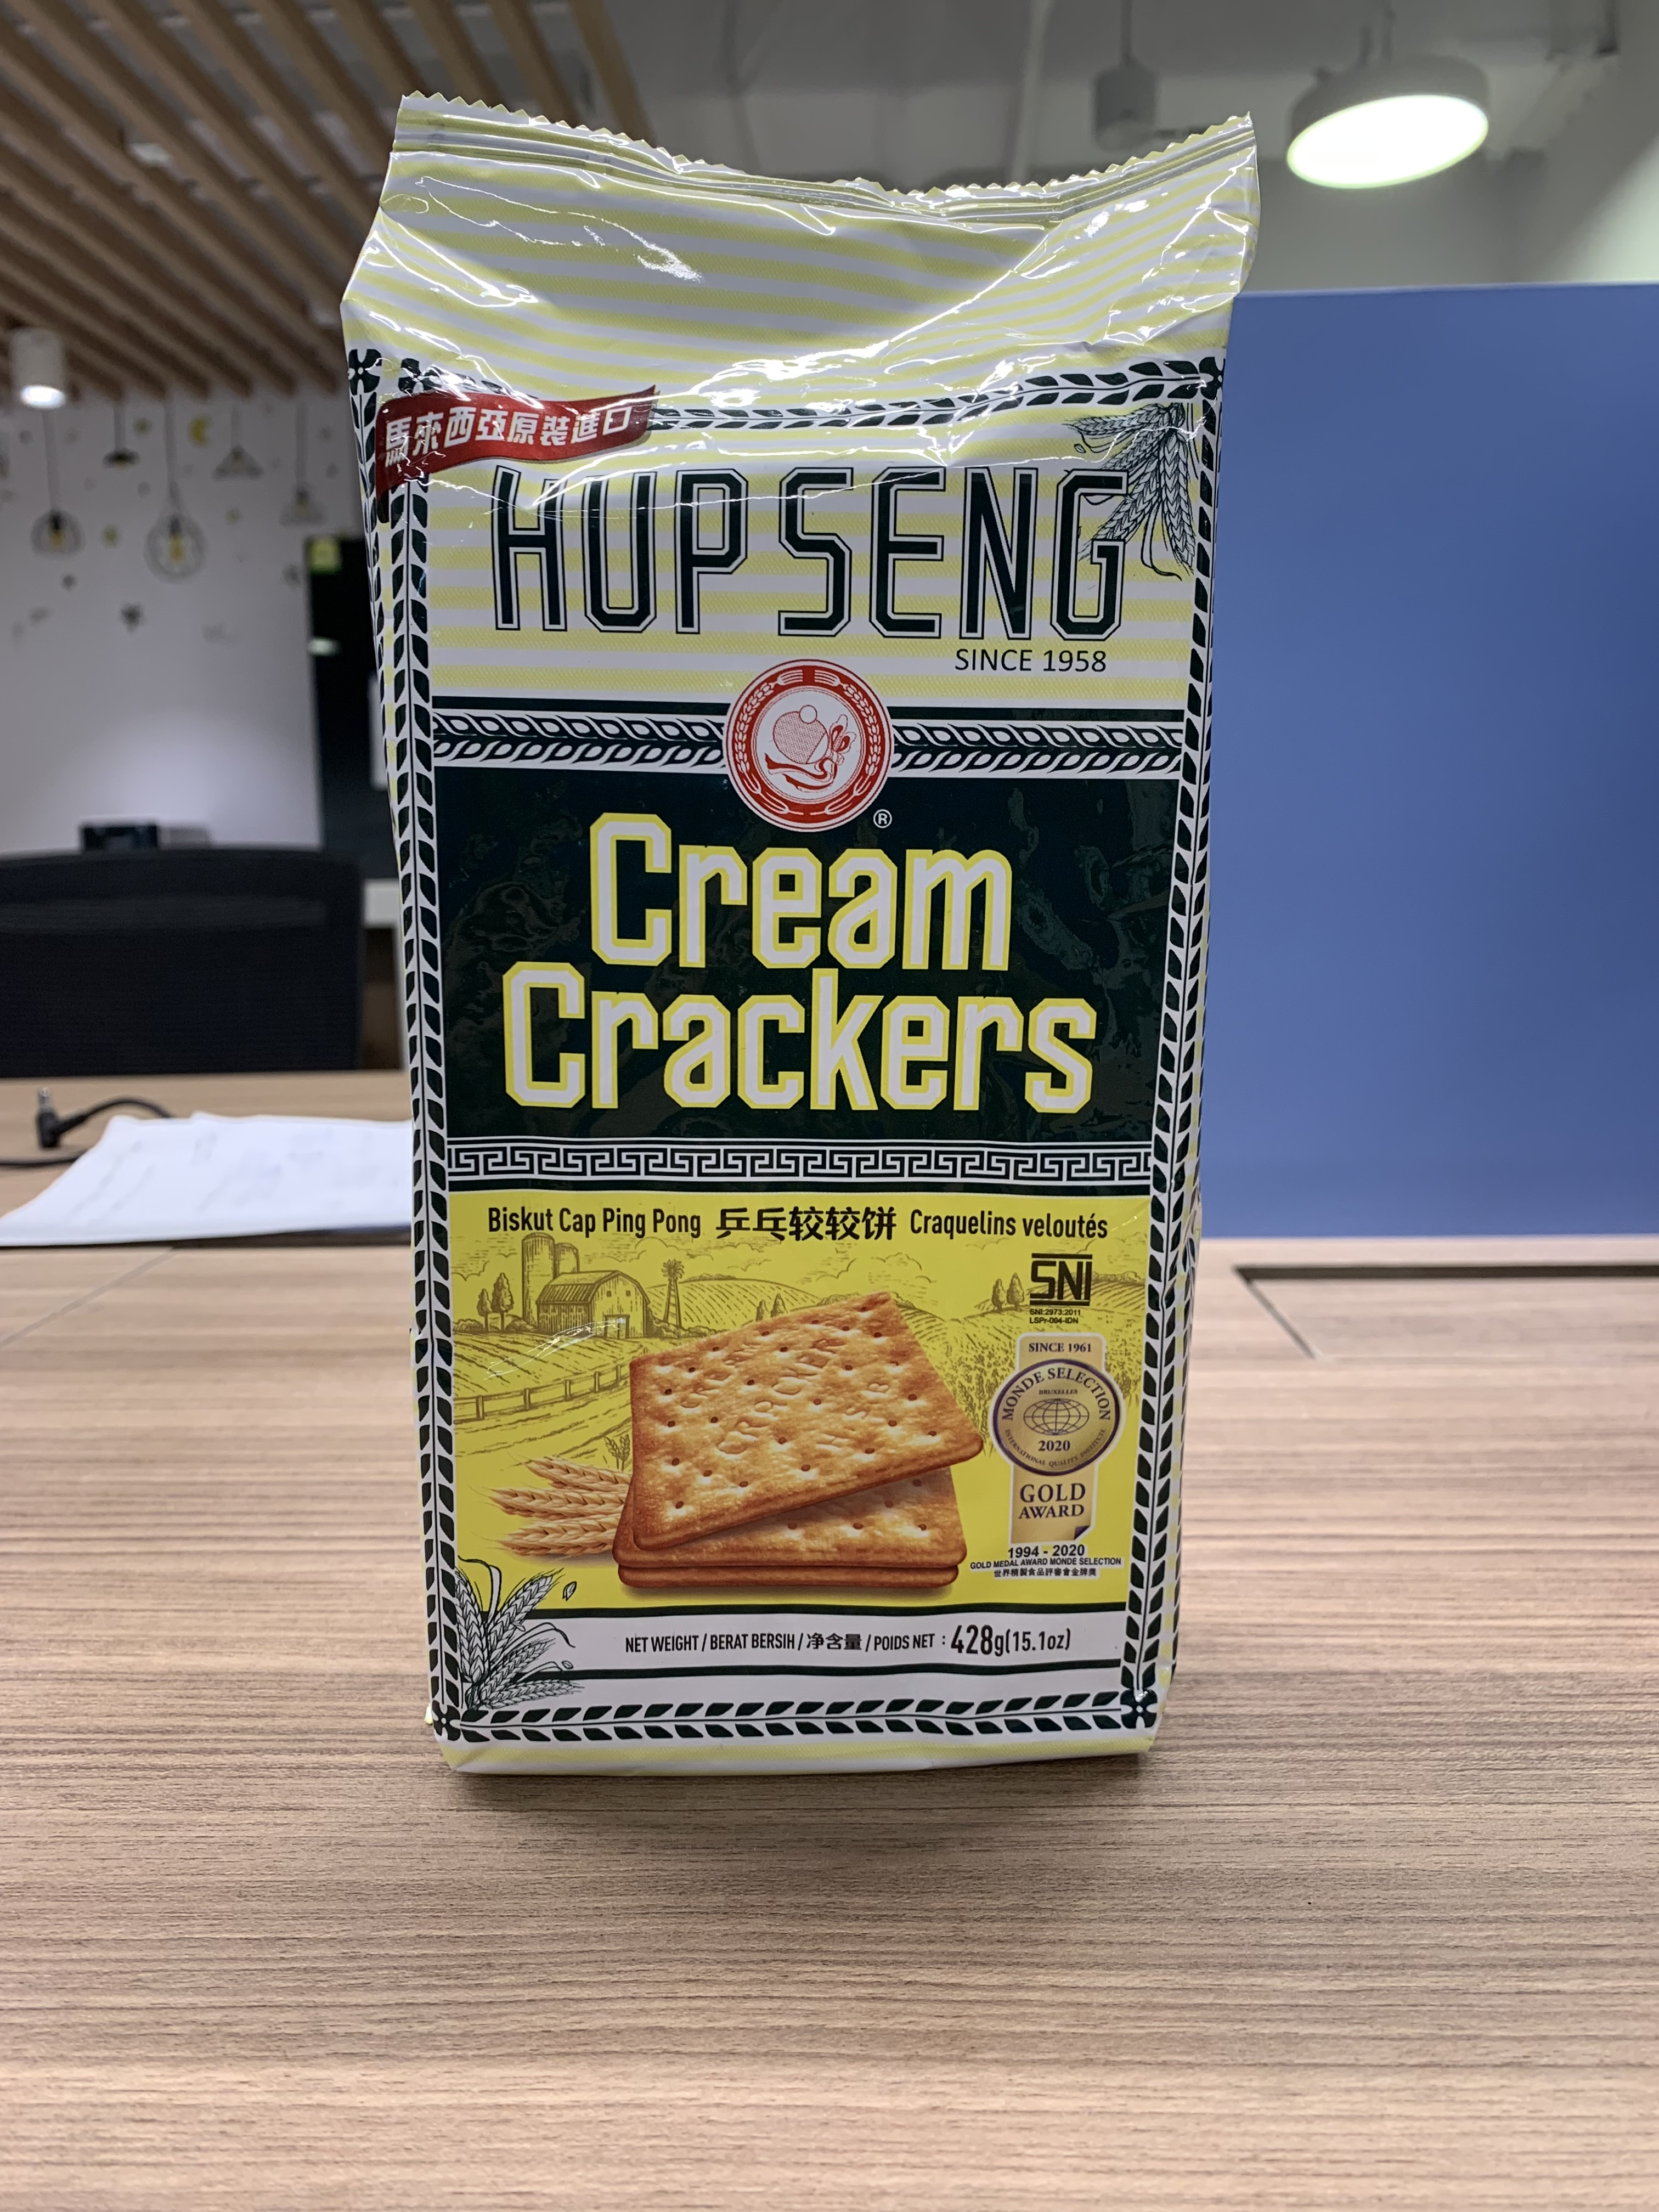crackers: (329, 94, 1277, 1784)
